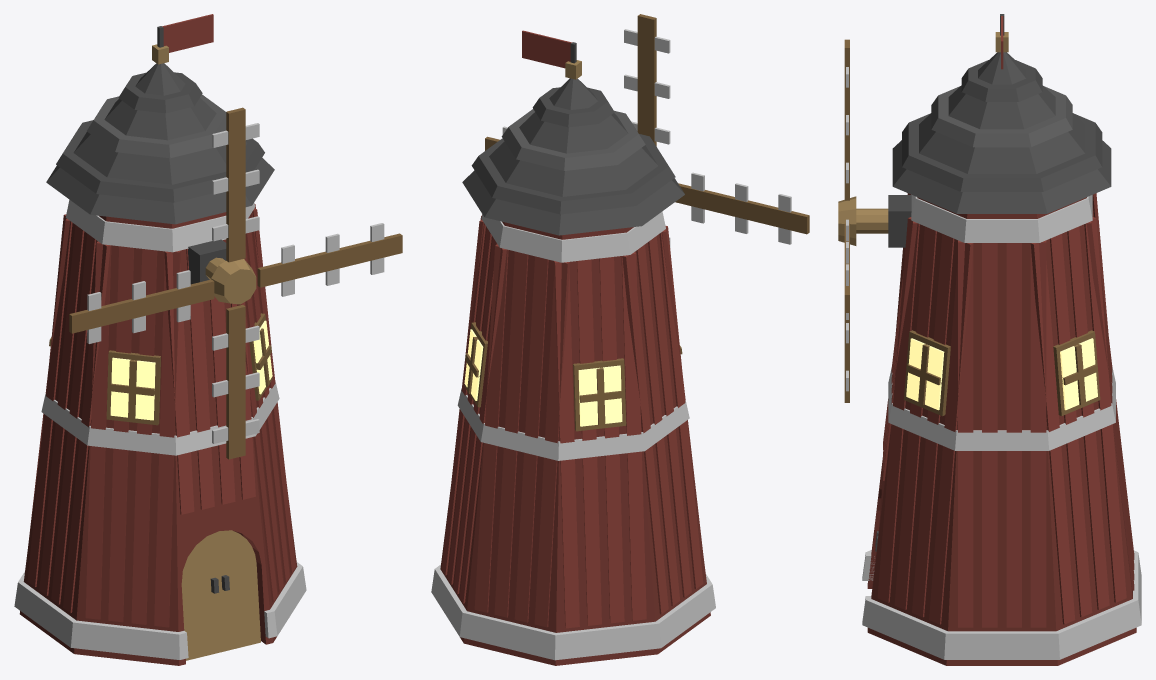
The model's file is Windmill.glb.
The picture shows the model from 3 angles, left to right: view 1: azimuth 30°, elevation 25°; view 2: azimuth 150°, elevation 25°; view 3: azimuth 270°, elevation 25°; orthographic projection. The views are drawn at different scales.
Visible parts, largest first — view 1: Windmill_Tower, Windmill_Cap, Windmill_TrimBase, Windmill_Plank_5_3, Windmill_Plank_5_0, Windmill_DoorR, Windmill_Plank_5_1, Windmill_Plank_5_2, Windmill_DoorL, Windmill_Shingle0, Windmill_BandMid, Windmill_TrimTop (+24 smaller); view 2: Windmill_Tower, Windmill_Cap, Windmill_TrimBase, Windmill_Plank_2_1, Windmill_Plank_2_2, Windmill_Plank_3_0, Windmill_Plank_3_3, Windmill_Shingle0, Windmill_Plank_2_3, Windmill_Plank_2_0, Windmill_BandMid, Windmill_Plank_3_1 (+19 smaller); view 3: Windmill_Tower, Windmill_Cap, Windmill_TrimBase, Windmill_Plank_0_1, Windmill_Plank_0_2, Windmill_Plank_0_3, Windmill_Plank_0_0, Windmill_Shingle0, Windmill_BandMid, Windmill_TrimTop, Windmill_Plank_1_0, Windmill_Plank_6_3 (+20 smaller).
Part boxes in pixels (x1,y1,x2,y2): Windmill_Tower: [19, 212, 297, 665]; Windmill_Cap: [46, 63, 274, 224]; Windmill_TrimBase: [14, 562, 306, 659]; Windmill_Plank_5_3: [154, 250, 180, 627]; Windmill_Plank_5_0: [85, 241, 111, 619]; Windmill_DoorR: [216, 530, 260, 651]; Windmill_Plank_5_1: [108, 246, 133, 622]; Windmill_Plank_5_2: [131, 249, 157, 624]; Windmill_DoorL: [181, 532, 222, 660]; Windmill_Shingle0: [56, 120, 264, 202]; Windmill_BandMid: [41, 381, 279, 455]; Windmill_TrimTop: [65, 199, 255, 252]; Windmill_Tower: [440, 221, 710, 665]; Windmill_Cap: [462, 78, 684, 235]; Windmill_TrimBase: [431, 564, 715, 660]; Windmill_Plank_2_1: [494, 251, 528, 617]; Windmill_Plank_2_2: [514, 256, 548, 622]; Windmill_Plank_3_0: [554, 261, 579, 628]; Windmill_Plank_3_3: [621, 252, 646, 620]; Windmill_Shingle0: [471, 134, 675, 214]; Windmill_Plank_2_3: [534, 262, 569, 627]; Windmill_Plank_2_0: [474, 244, 508, 612]; Windmill_BandMid: [457, 389, 689, 460]; Windmill_Plank_3_1: [577, 259, 601, 625]; Windmill_Tower: [867, 197, 1136, 665]; Windmill_Cap: [892, 52, 1111, 213]; Windmill_TrimBase: [862, 550, 1141, 659]; Windmill_Plank_0_1: [982, 243, 997, 627]; Windmill_Plank_0_2: [1006, 243, 1021, 627]; Windmill_Plank_0_3: [1030, 240, 1046, 627]; Windmill_Plank_0_0: [958, 240, 973, 627]; Windmill_Shingle0: [902, 113, 1102, 191]; Windmill_BandMid: [888, 367, 1115, 450]; Windmill_TrimTop: [911, 194, 1092, 242]; Windmill_Plank_1_0: [1030, 243, 1075, 624]; Windmill_Plank_6_3: [929, 243, 973, 624].
Size of the model in its own units: 4.3 by 7.21 by 3.33.
